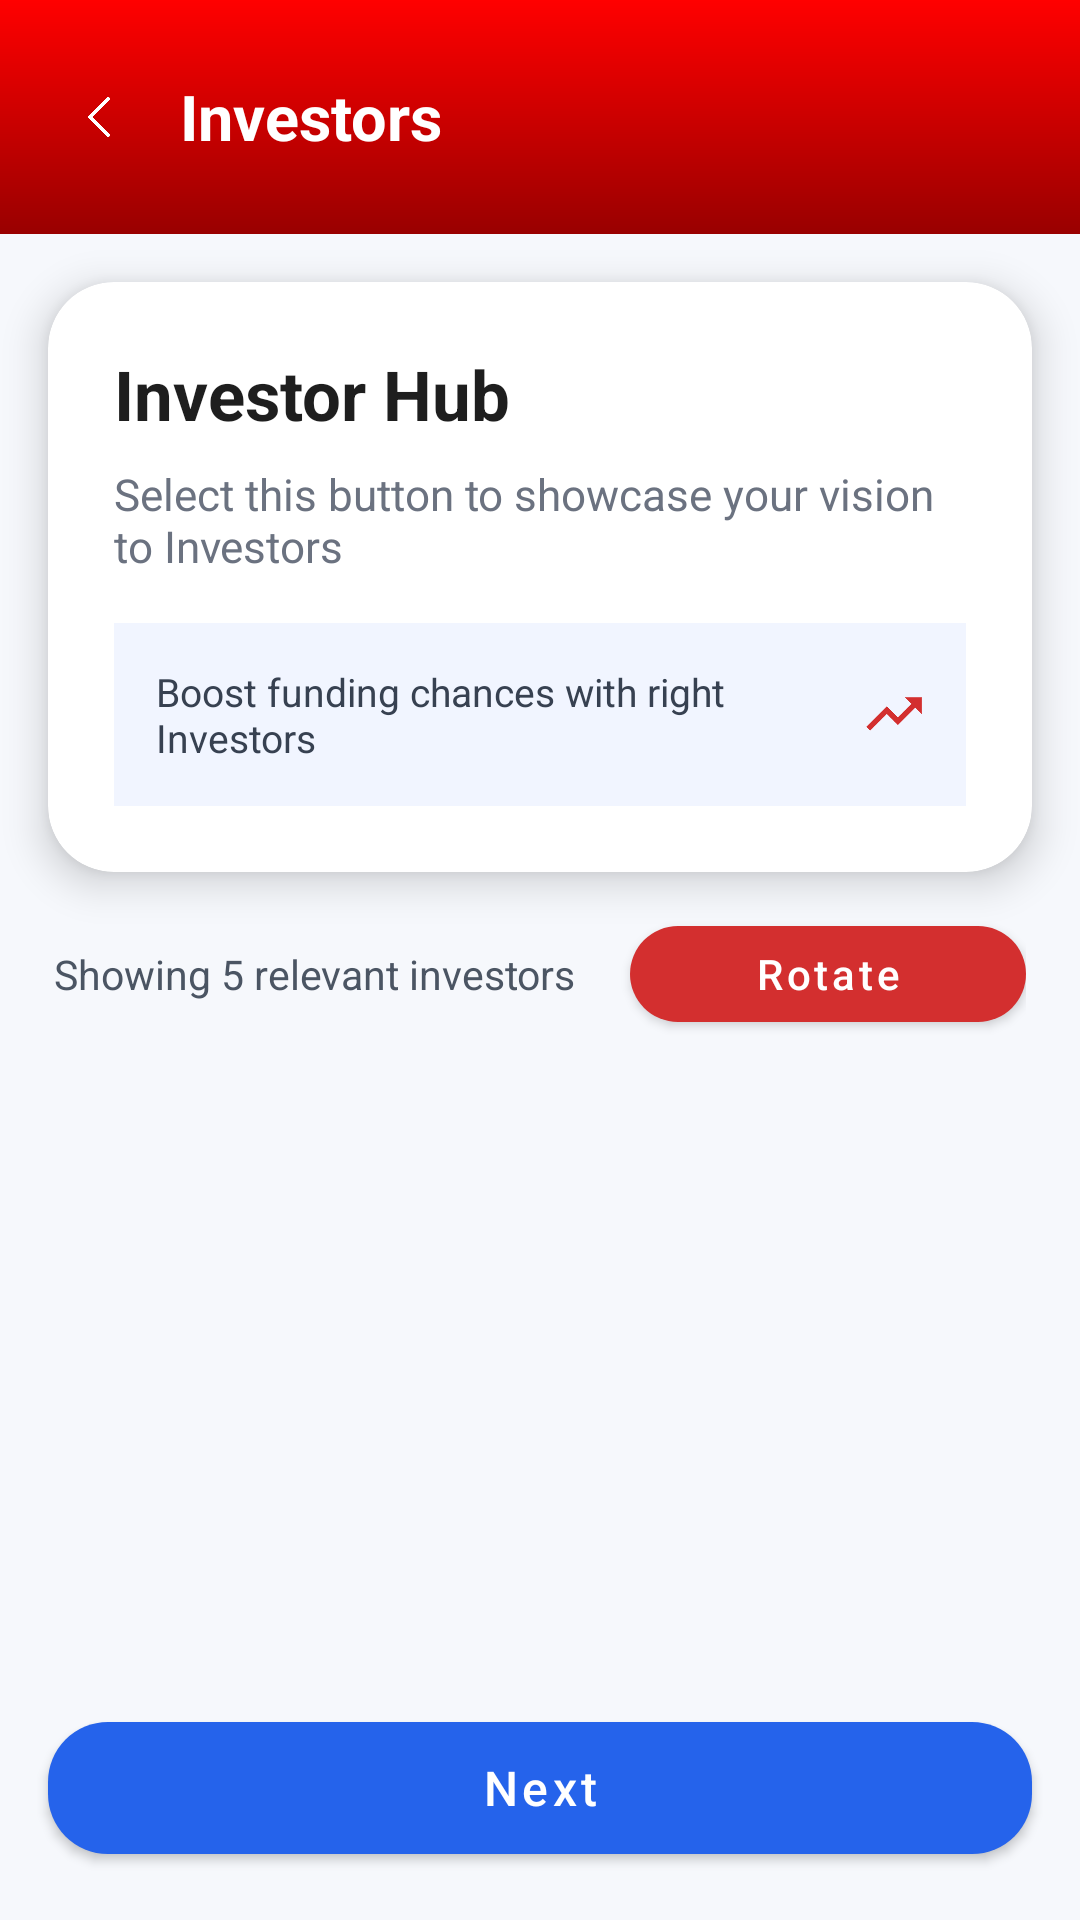

Icons on this 1080px×1920px Android screen, each with the point to tap as (x=x, y=y):
trending up: (x=894, y=714)
